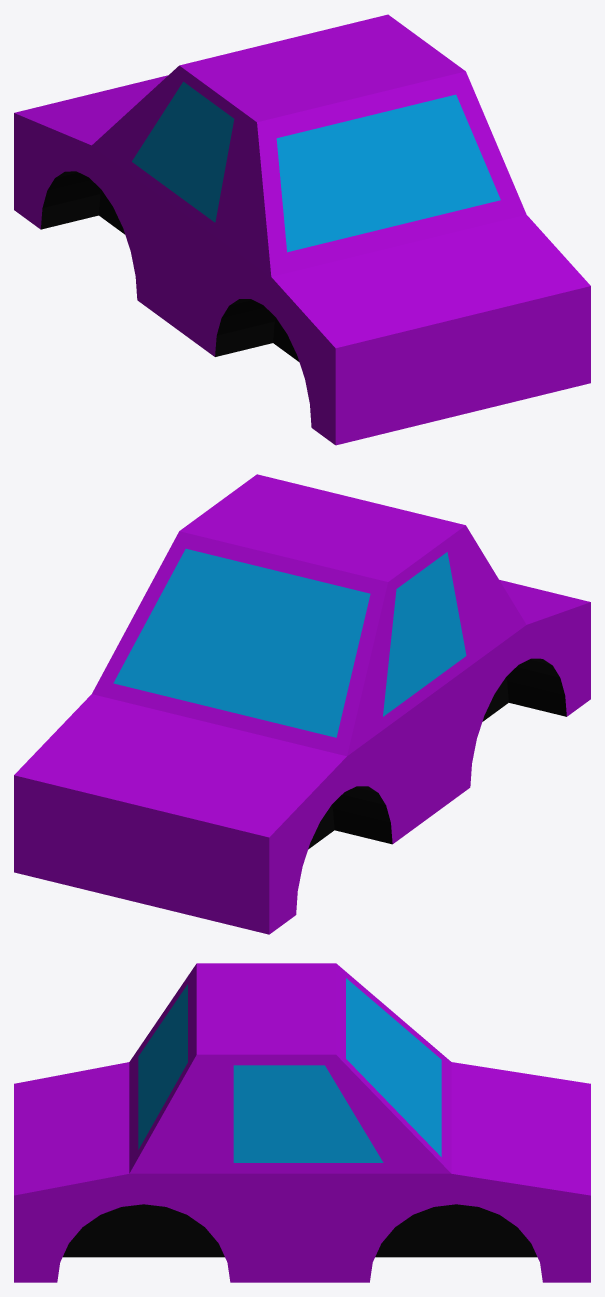
Rendered from Body_Basic.glb.
The picture shows the model from 3 angles, top to bottom: view 1: azimuth 30°, elevation 25°; view 2: azimuth 150°, elevation 25°; view 3: azimuth 270°, elevation 25°; orthographic projection. The views are drawn at different scales.
Visible parts, largest first — view 1: Body_Basic; view 2: Body_Basic; view 3: Body_Basic.
Part boxes in pixels (bbox=[...]): Body_Basic: bbox=[14, 14, 590, 445]; Body_Basic: bbox=[14, 474, 590, 934]; Body_Basic: bbox=[14, 963, 590, 1282].
Bounding box in the file's own units: 1.1 × 1 × 2.4.
